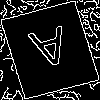A: (25, 25, 77, 79)
